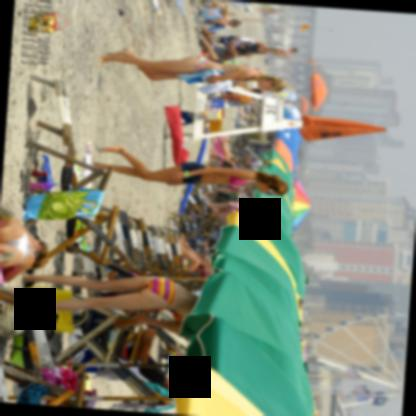handbag: (26, 287, 88, 333), (0, 304, 24, 344), (43, 313, 56, 340)
